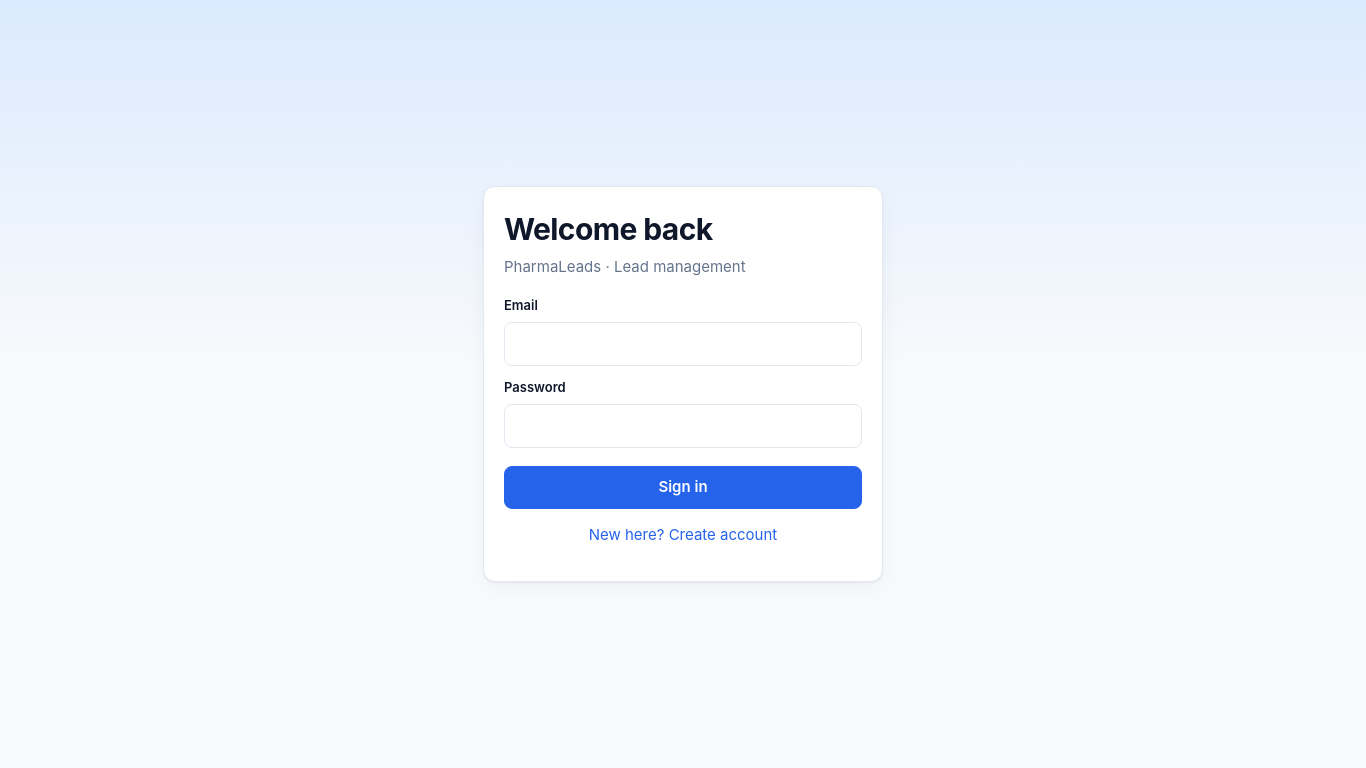
Test: Login › shows server error message
Type "a@b.com" into the field labelled "Email".
click(683, 344); type("a@b.com")  # box x1=504 y1=322 x2=862 y2=366
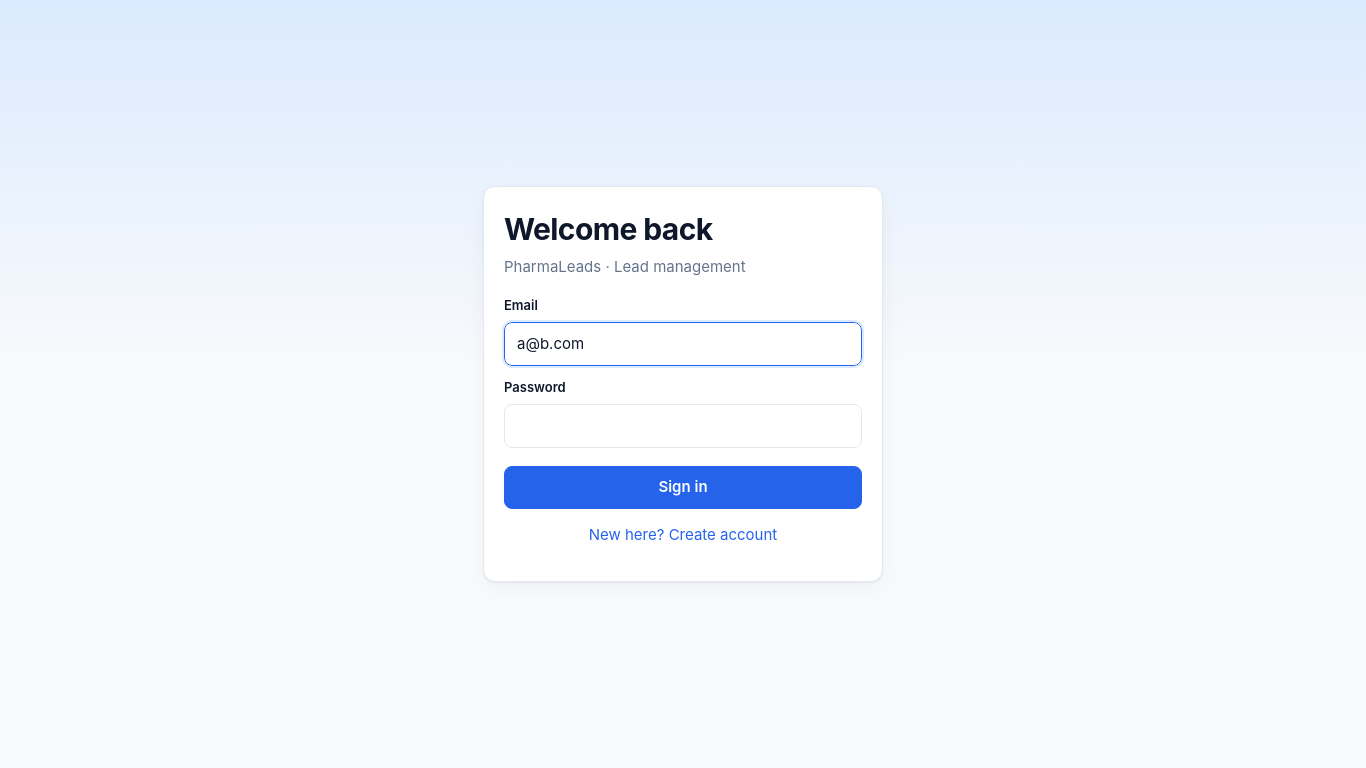
Type "bad" into the password field labelled "Password".
click(683, 426); type("bad")  # box x1=504 y1=404 x2=862 y2=448
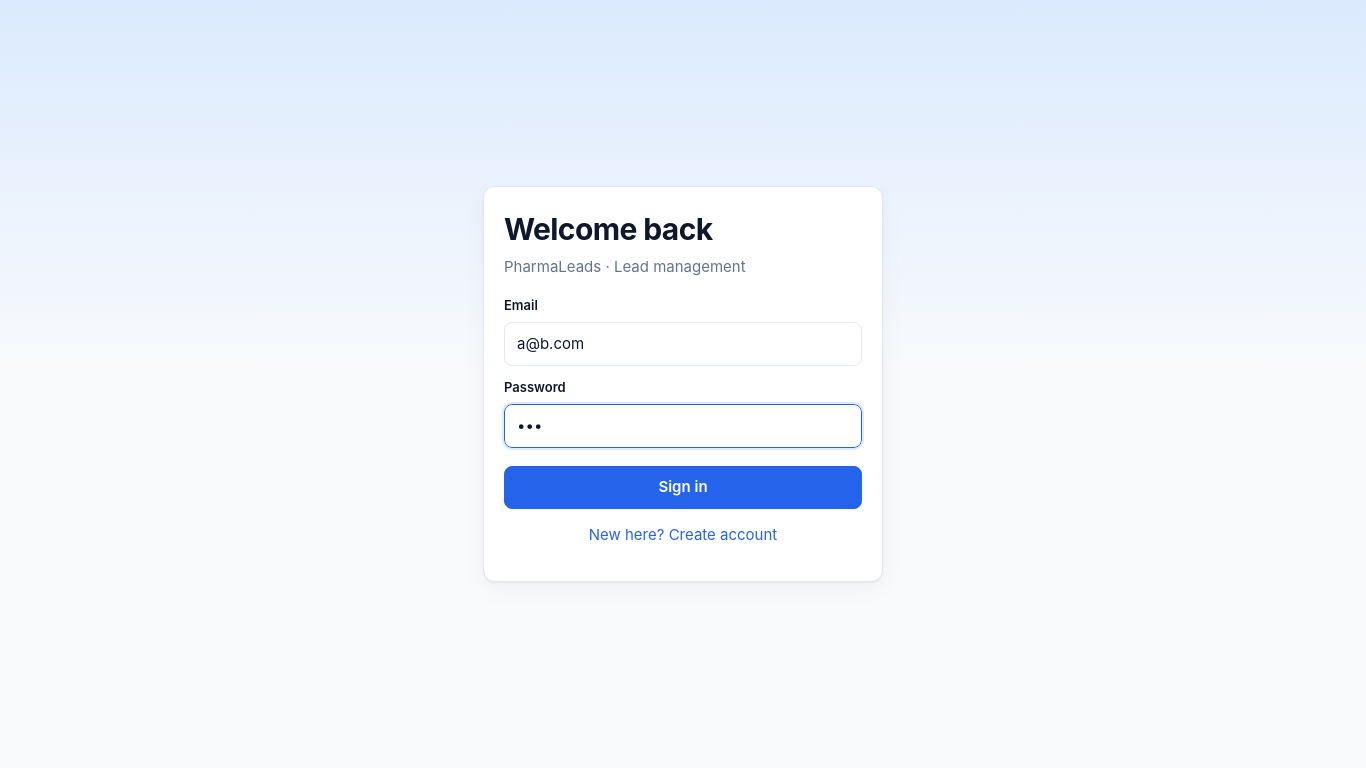
Click the button "Sign in".
click(683, 488)  # box x1=504 y1=466 x2=862 y2=509
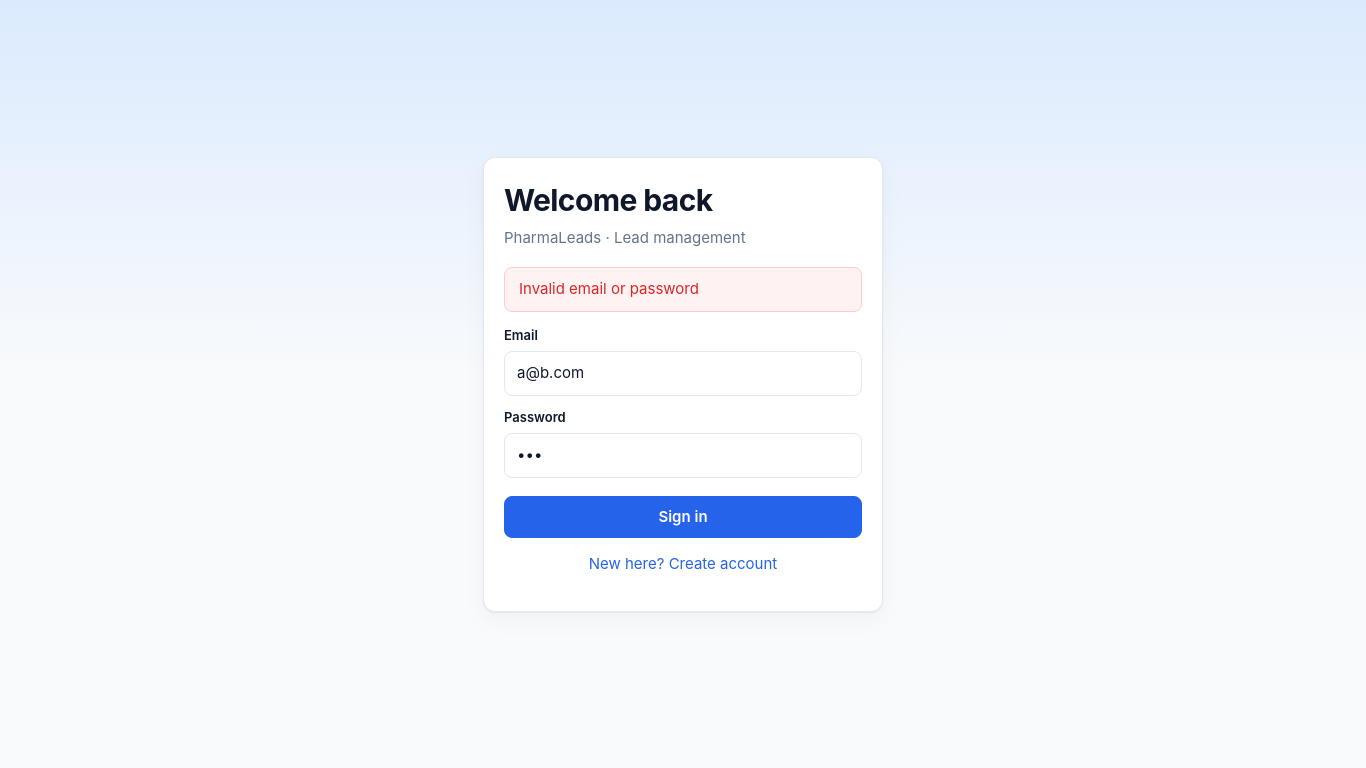
expect the message reads "Invalid email or password": met, box x1=519 y1=279 x2=699 y2=298
